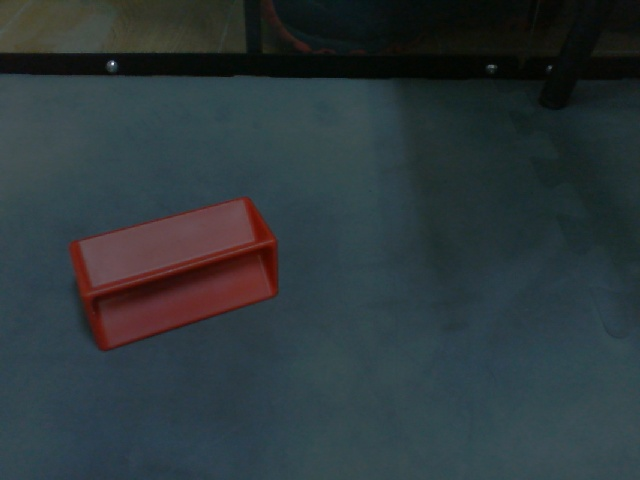RedSample: (64, 193, 281, 355)
